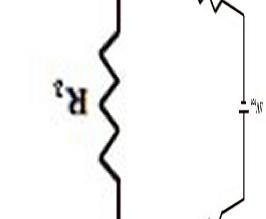resistor: (93, 19, 134, 189)
